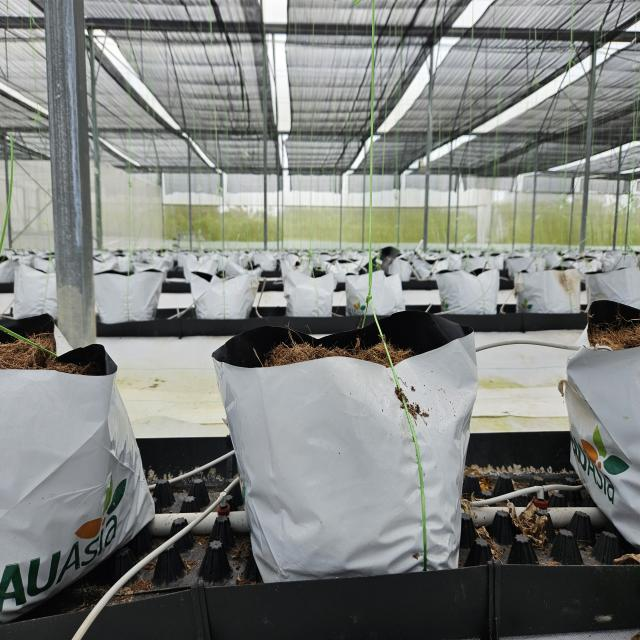Soilbag: (211, 312, 479, 585), (0, 327, 155, 624), (558, 300, 640, 555)
